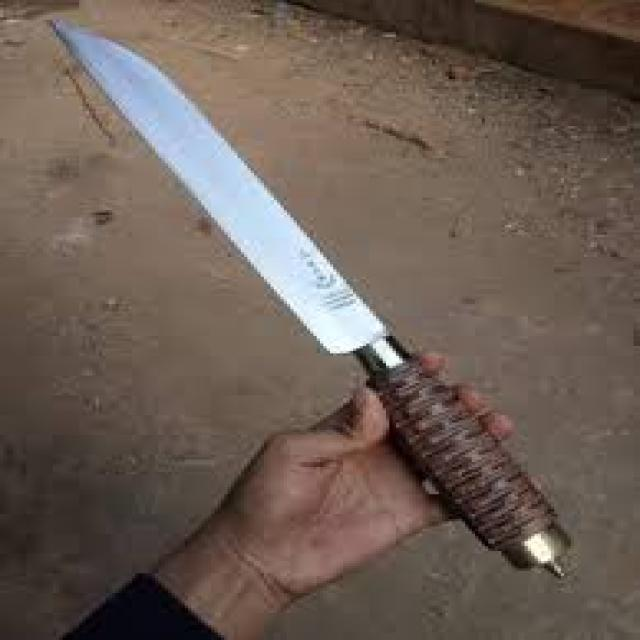Knife: (53, 20, 567, 576)
